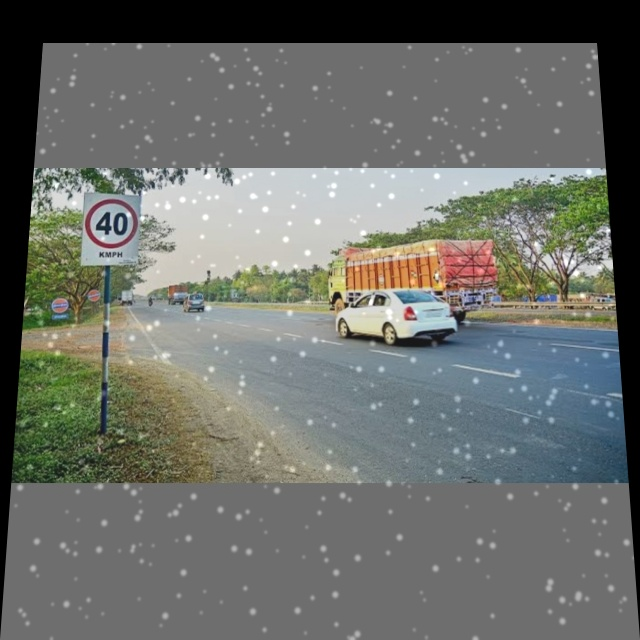Speed_Limit_40: (80, 190, 143, 269)
